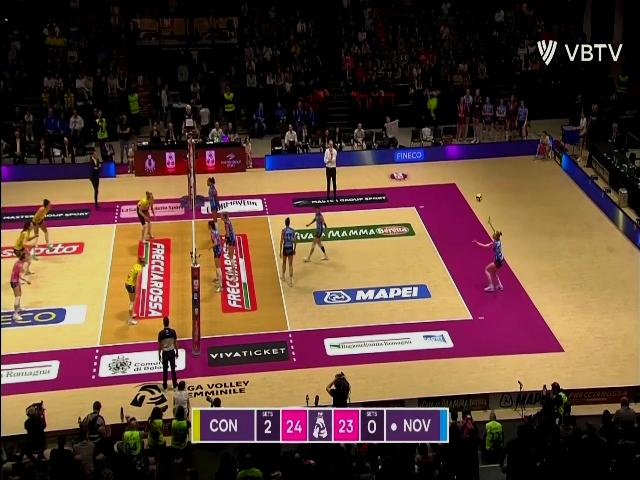volleyball court: (1, 203, 479, 359)
